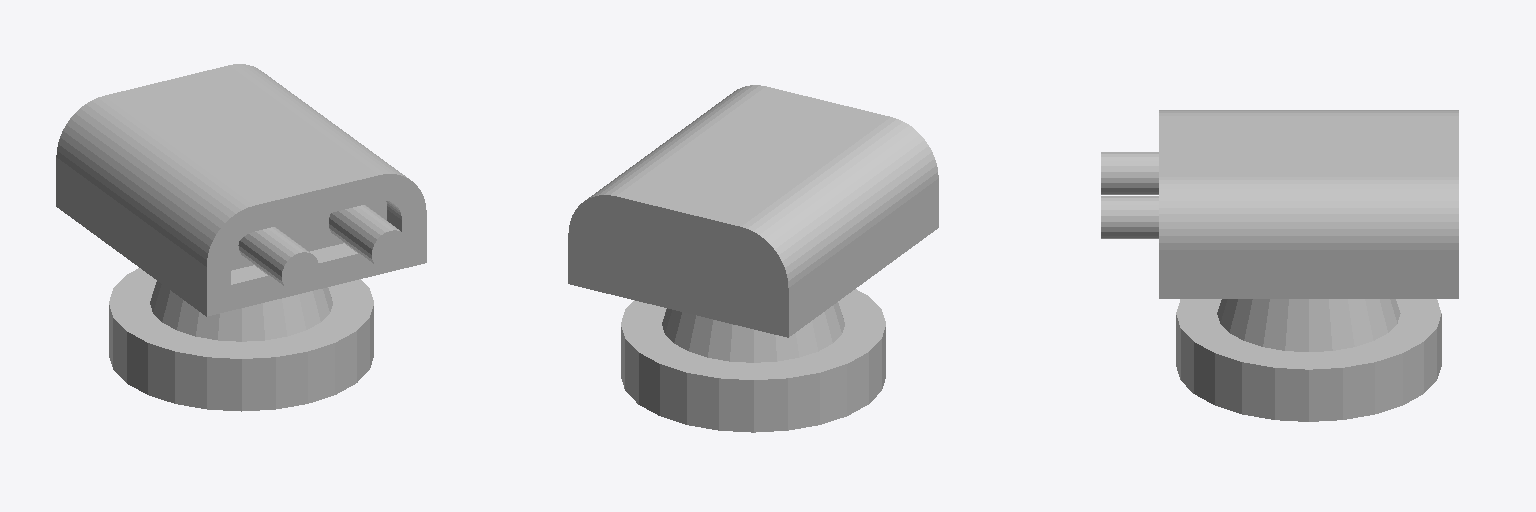
Rendered from weapon_blaster.obj.
3 views of the same model, side by side, from view 1: azimuth 30°, elevation 25°; view 2: azimuth 150°, elevation 25°; view 3: azimuth 270°, elevation 25° (orthographic).
Visible parts, largest first — view 1: weapon_blaster; view 2: weapon_blaster; view 3: weapon_blaster.
Part boxes in pixels (x1,y1,x2,y2): weapon_blaster: (56, 64, 426, 411); weapon_blaster: (568, 85, 938, 432); weapon_blaster: (1101, 110, 1458, 421).
Bounding box in the file's own units: 0.4598 × 0.42 × 0.62.